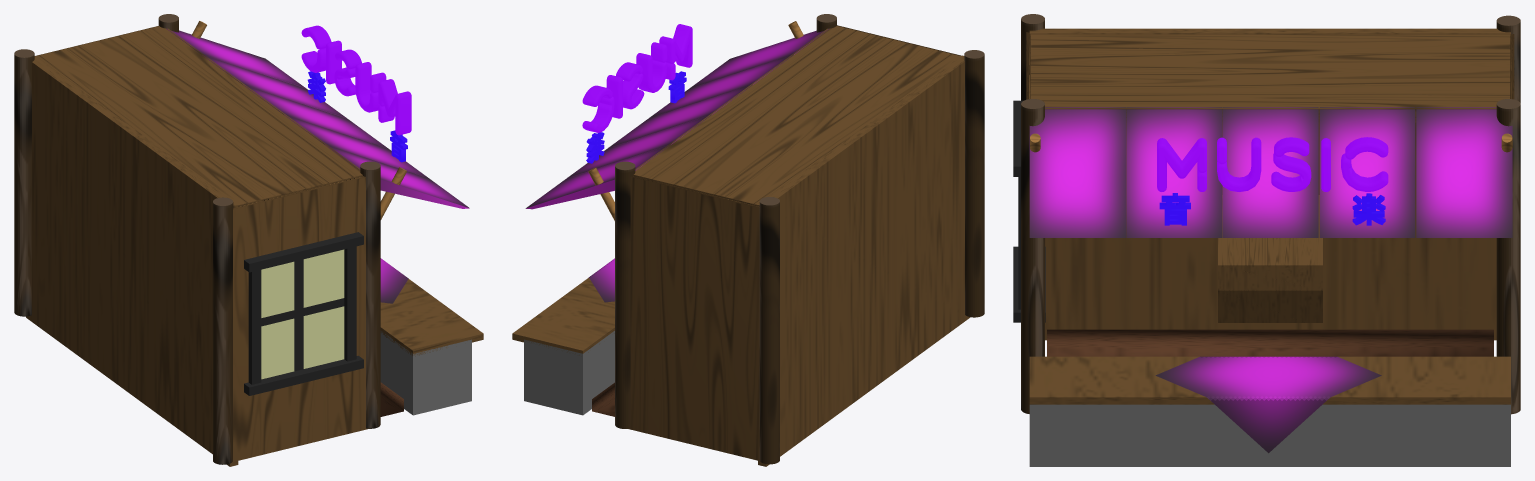
Rendered from music.glb.
3 renders of one model, left to right at view 1: azimuth 30°, elevation 25°; view 2: azimuth 150°, elevation 25°; view 3: azimuth 270°, elevation 25°, orthographic. The views are drawn at different scales.
Parts seen in each view (by area): view 1: back wall, Cube.001, Cube.007, Cube.013, Plane, Cylinder.005, Cylinder.004, English, Cube, Cylinder.002, Cube.006, Cube.005 (+12 smaller); view 2: back wall, Cube.009, Cube.001, Cylinder.004, Plane, Cylinder.005, English, Cube, Cylinder, Cube.004, Cube.005, Cube.006 (+5 smaller); view 3: back wall, Cube.001, Plane, Cube, Base.004, Cube.006, Cube.004, Plane.001, Cube.005, Cube.002, Cube.003, Cube.008 (+8 smaller).
Boxes of the visible parts, x1=… form: back wall: x1=26, y1=56, x2=238, y2=466; Cube.001: x1=35, y1=26, x2=362, y2=206; Cube.007: x1=232, y1=176, x2=368, y2=462; Cube.013: x1=261, y1=249, x2=344, y2=379; Plane: x1=380, y1=331, x2=471, y2=415; Cylinder.005: x1=213, y1=197, x2=233, y2=464; Cylinder.004: x1=14, y1=49, x2=34, y2=316; English: x1=301, y1=25, x2=411, y2=135; Cube: x1=380, y1=279, x2=483, y2=356; Cylinder.002: x1=360, y1=161, x2=380, y2=428; Cube.006: x1=324, y1=144, x2=469, y2=208; Cube.005: x1=243, y1=85, x2=387, y2=148; back wall: x1=758, y1=55, x2=970, y2=466; Cube.009: x1=629, y1=176, x2=759, y2=460; Cube.001: x1=633, y1=26, x2=960, y2=205; Cylinder.004: x1=759, y1=197, x2=779, y2=464; Plane: x1=524, y1=331, x2=614, y2=415; Cylinder.005: x1=964, y1=50, x2=984, y2=317; English: x1=582, y1=24, x2=692, y2=132; Cube: x1=512, y1=277, x2=614, y2=355; Cylinder: x1=615, y1=161, x2=635, y2=428; Cube.004: x1=525, y1=145, x2=670, y2=209; Cube.005: x1=608, y1=84, x2=752, y2=148; Cube.006: x1=689, y1=28, x2=829, y2=88; back wall: x1=1029, y1=28, x2=1510, y2=340; Cube.001: x1=1030, y1=34, x2=1510, y2=122; Plane: x1=1029, y1=404, x2=1510, y2=466; Cube: x1=1029, y1=356, x2=1510, y2=404; Base.004: x1=1047, y1=329, x2=1493, y2=356; Cube.006: x1=1029, y1=107, x2=1125, y2=237; Cube.004: x1=1416, y1=107, x2=1512, y2=237; Plane.001: x1=1155, y1=356, x2=1381, y2=453; Cube.005: x1=1222, y1=107, x2=1318, y2=237; Cube.002: x1=1319, y1=107, x2=1415, y2=237; Cube.003: x1=1126, y1=107, x2=1221, y2=237; Cube.008: x1=1218, y1=195, x2=1322, y2=322.
Size of the model in its own units: 4.57 by 4.51 by 6.33.
Materials: 13 (6 with a texture image).
